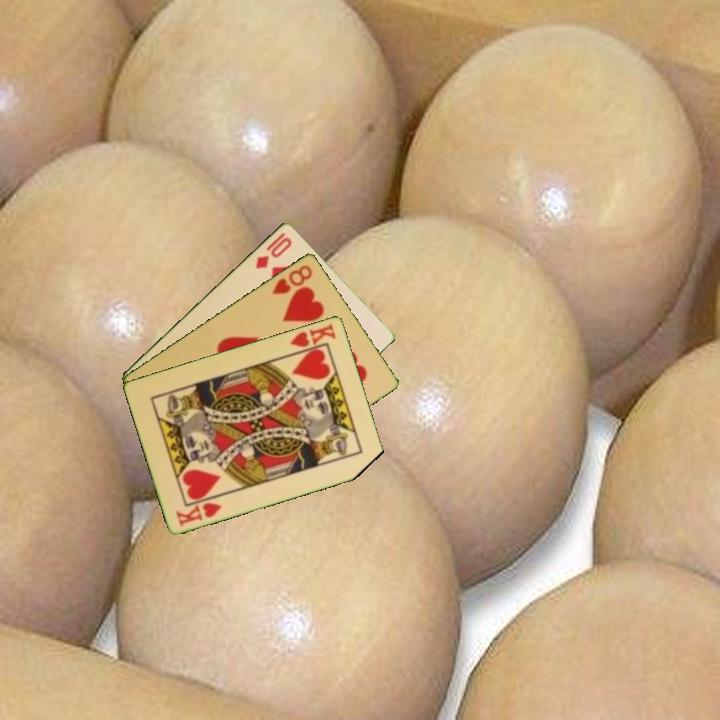10d: (252, 233, 295, 271)
8h: (268, 261, 315, 297)
Kh: (287, 320, 339, 357), (173, 498, 225, 529)
